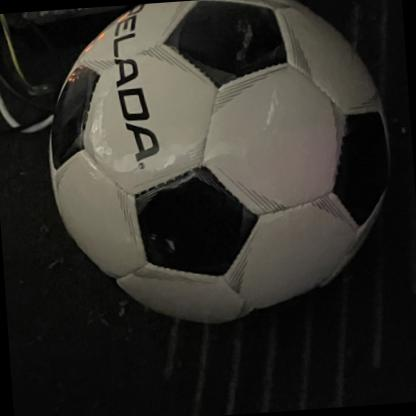ball: (38, 0, 406, 335)
